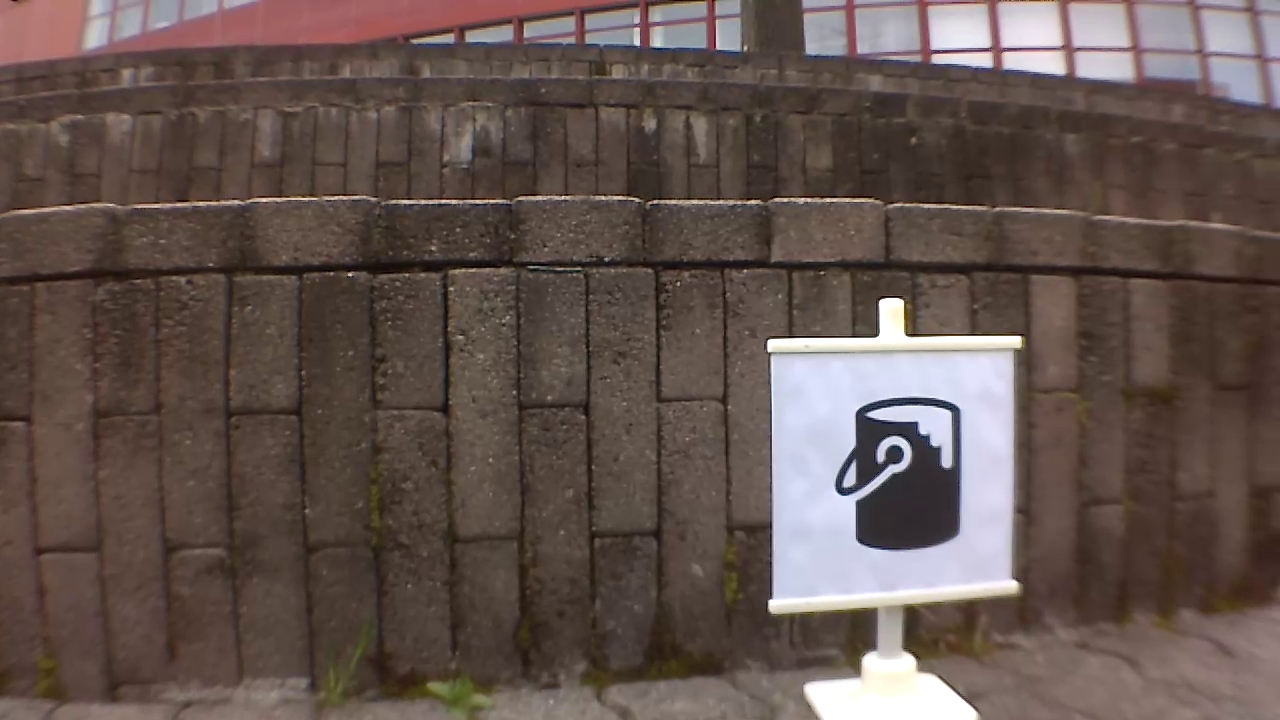bucket: (833, 390, 971, 555)
